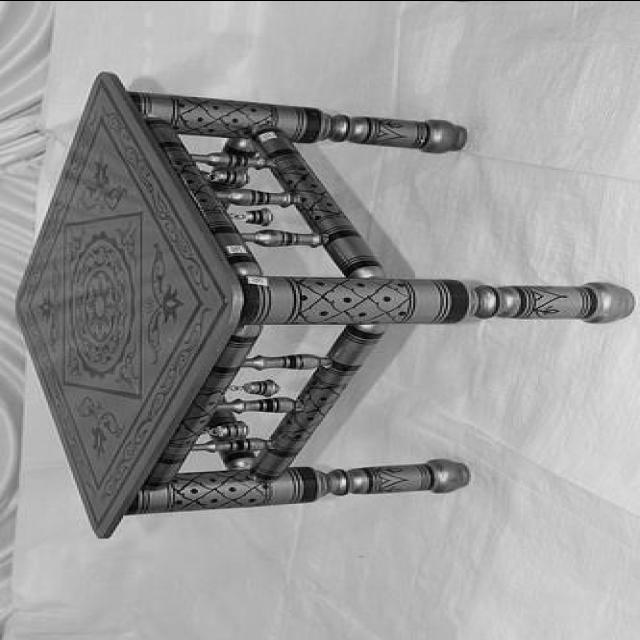table: (12, 66, 630, 537)
